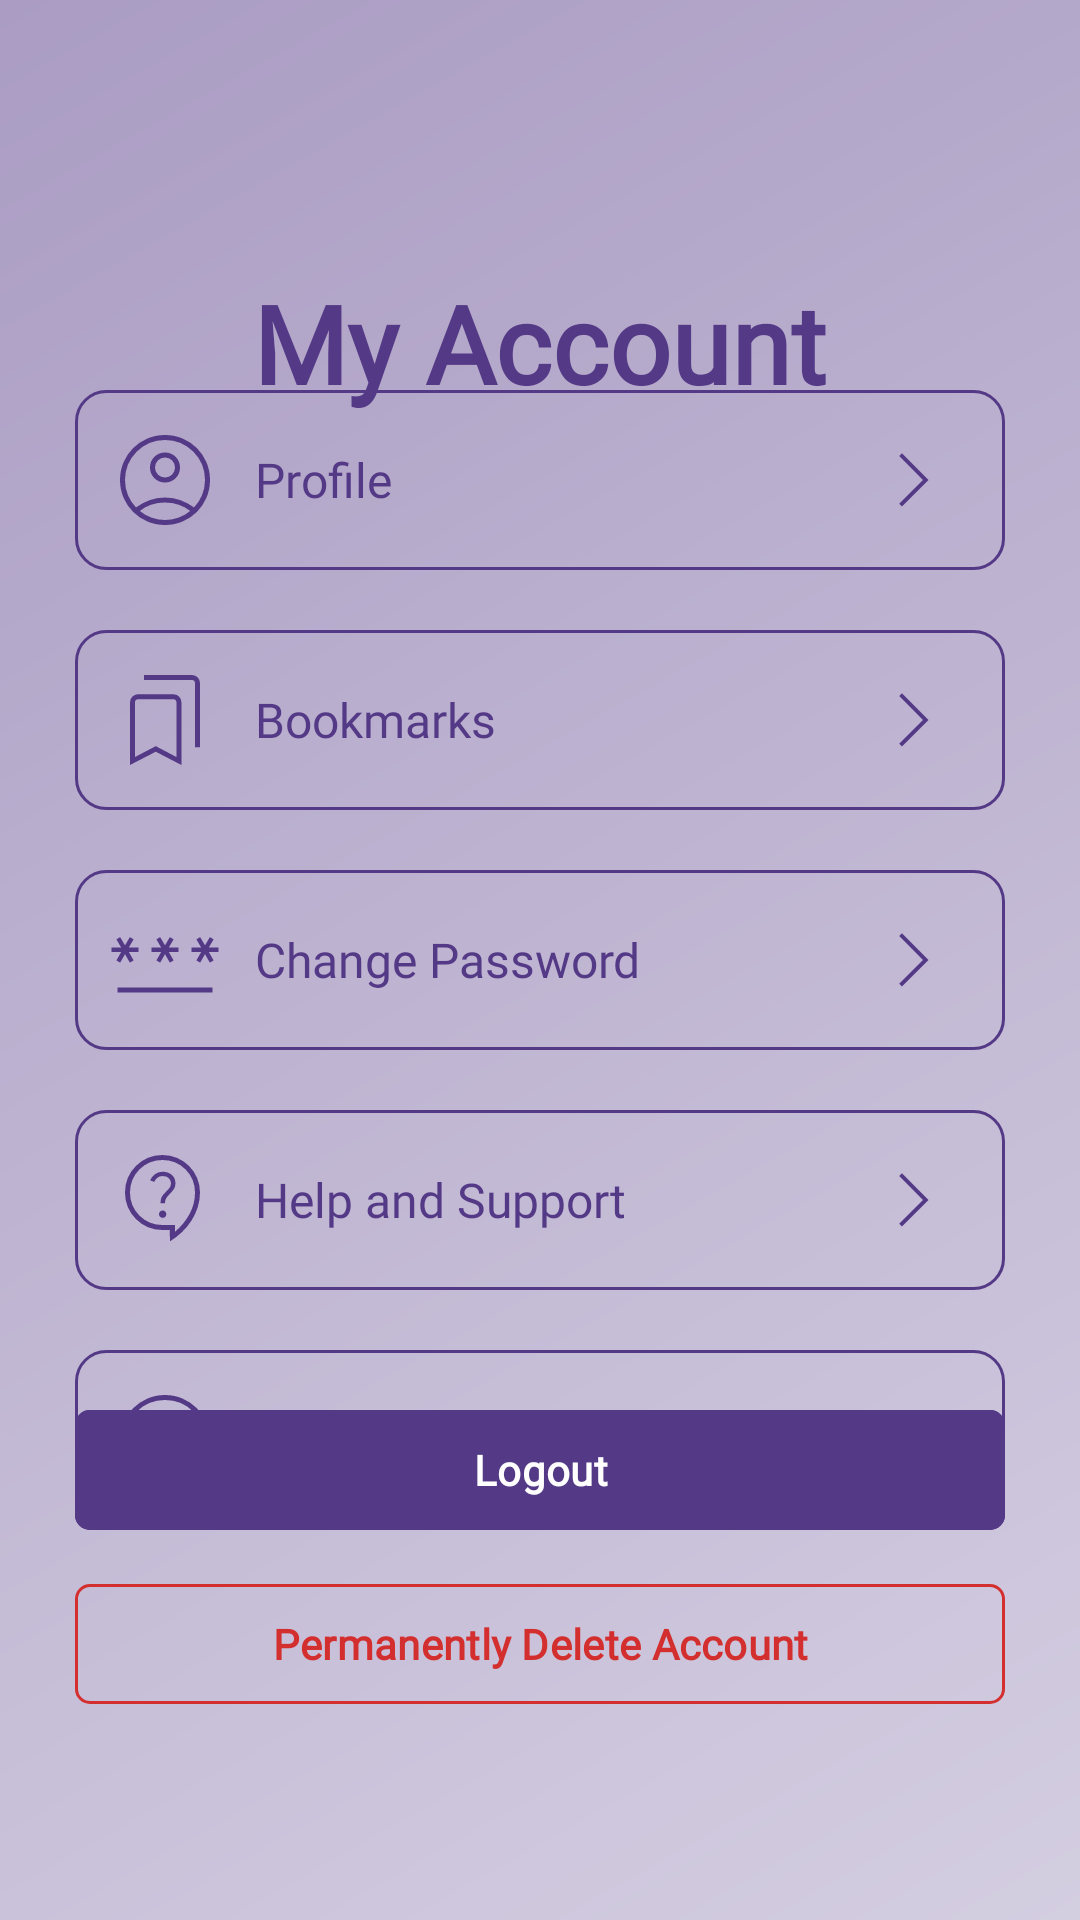

Icon click points for this 1080w x 1920h phone screenshot, format [x,y]:
forward: [913,479], [913,719], [913,959], [913,1199]
